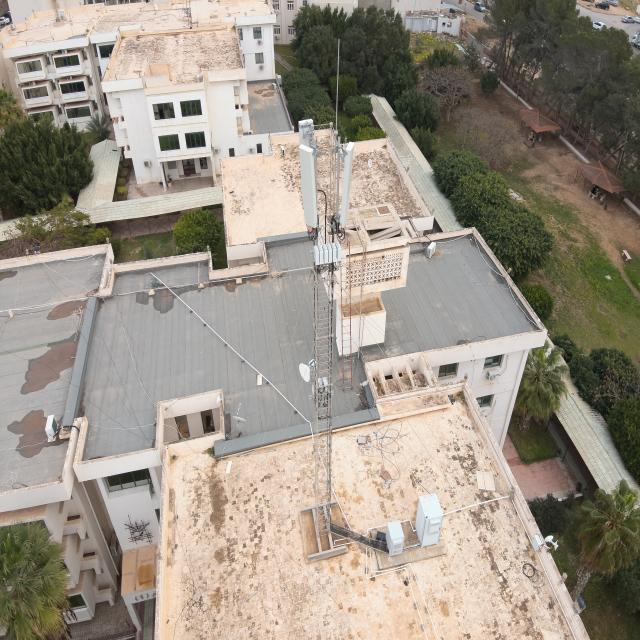antenna: (298, 117, 318, 220), (298, 143, 320, 230), (338, 140, 355, 228)
lighnig-rad: (334, 36, 341, 133)
microware-dish: (299, 356, 317, 384)
power-box: (311, 376, 331, 398)
radio-unit: (312, 242, 346, 266)
